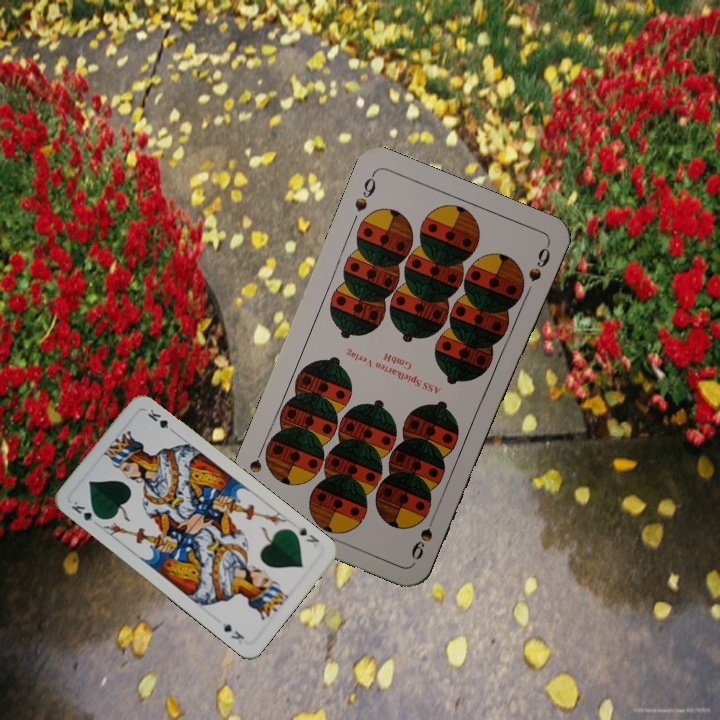GK: (67, 497, 104, 524), (293, 522, 322, 546)
S9: (407, 507, 440, 562), (350, 169, 379, 215)
